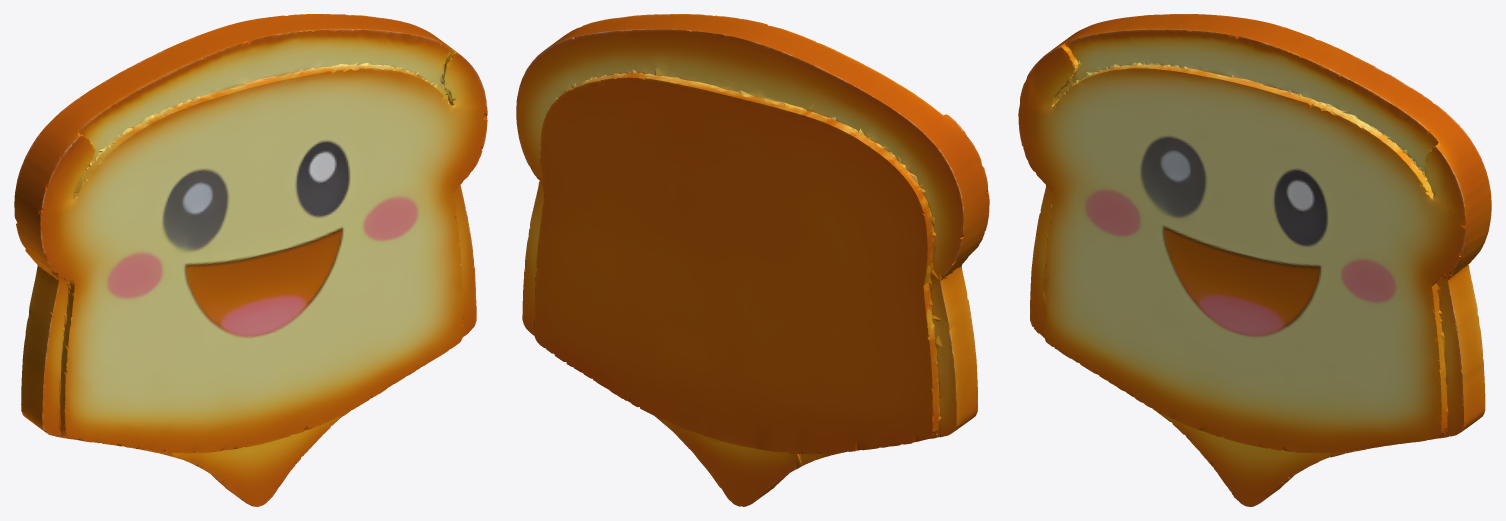
The model's file is bread-slice.glb.
The picture shows the model from 3 angles, left to right: view 1: azimuth 30°, elevation 25°; view 2: azimuth 150°, elevation 25°; view 3: azimuth 330°, elevation 25°; orthographic projection.
Parts seen in each view (by area): view 1: Toast_Bread; view 2: Toast_Bread; view 3: Toast_Bread.
Part boxes in pixels (<box>): Toast_Bread: <box>14,14,487,506</box>; Toast_Bread: <box>516,14,989,506</box>; Toast_Bread: <box>1018,14,1491,506</box>.
Bounding box in the file's own units: 1.89 × 1.9 × 0.2354.
1 material, 1 textured.
